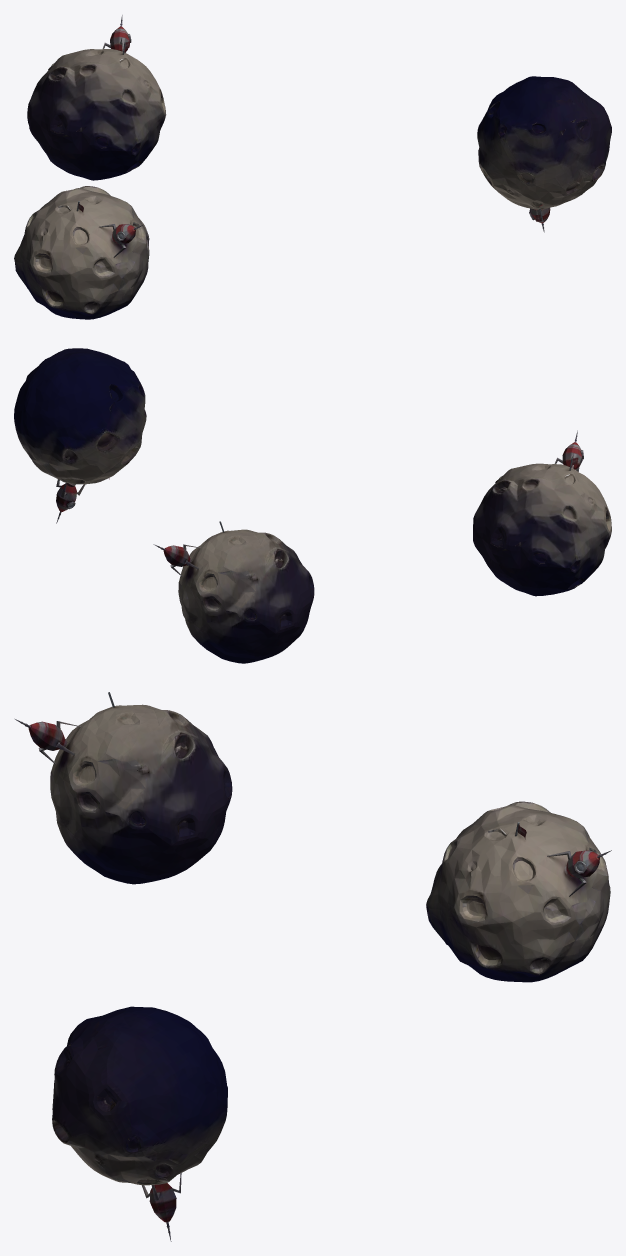
Rendered from planets-transformed.glb.
3 renders of one model, top to bottom at view 1: azimuth 30°, elevation 25°; view 2: azimuth 150°, elevation 25°; view 3: azimuth 270°, elevation 25°, orthographic. The views are drawn at different scales.
Parts seen in each view (by area): view 1: Moon3, Moon2, Moon1; view 2: Moon1, Moon2, Moon3; view 3: Moon1, Moon2, Moon3.
Part boxes in pixels (bbox=[...]): Moon3: bbox=[27, 15, 166, 180]; Moon2: bbox=[477, 76, 611, 232]; Moon1: bbox=[14, 186, 149, 319]; Moon1: bbox=[473, 430, 611, 596]; Moon2: bbox=[14, 348, 146, 523]; Moon3: bbox=[153, 521, 314, 663]; Moon1: bbox=[14, 692, 232, 884]; Moon2: bbox=[52, 1006, 227, 1241]; Moon3: bbox=[426, 801, 611, 982].
Bounding box in the file's own units: 360 × 100 × 239.
1 material, 1 textured.
